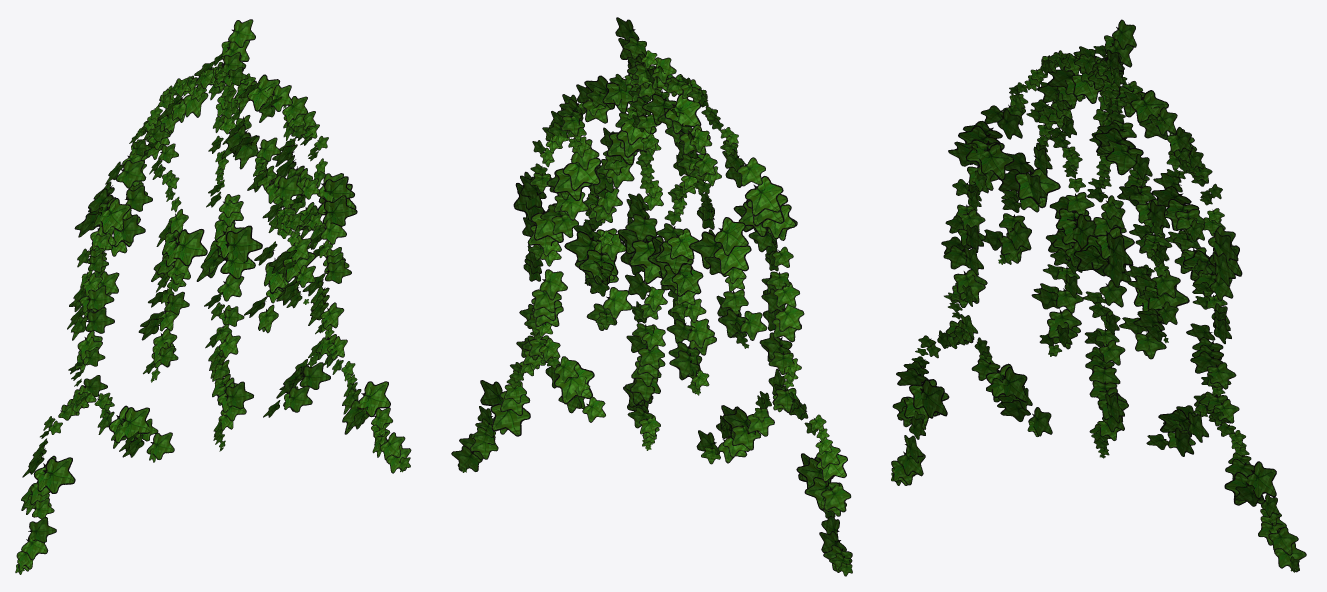
File: sm_vines_leaf_general.fbx
3 views of the same model, side by side, from view 1: azimuth 30°, elevation 25°; view 2: azimuth 150°, elevation 25°; view 3: azimuth 330°, elevation 25° (orthographic). The views are drawn at different scales.
Visible parts, largest first — view 1: sm_vines_Leaf_general; view 2: sm_vines_Leaf_general; view 3: sm_vines_Leaf_general.
Boxes of the visible parts, x1,y1,x2,y2 form: sm_vines_Leaf_general: (15, 19, 411, 574); sm_vines_Leaf_general: (451, 17, 852, 576); sm_vines_Leaf_general: (891, 19, 1306, 572).
Size of the model in its own units: 386 by 462 by 63.48.
